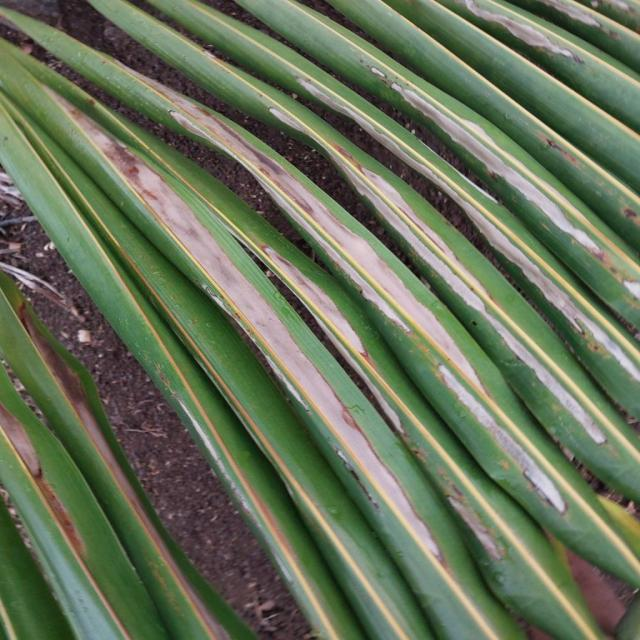gray leaf spot: (45, 56, 640, 579), (446, 5, 640, 82)
